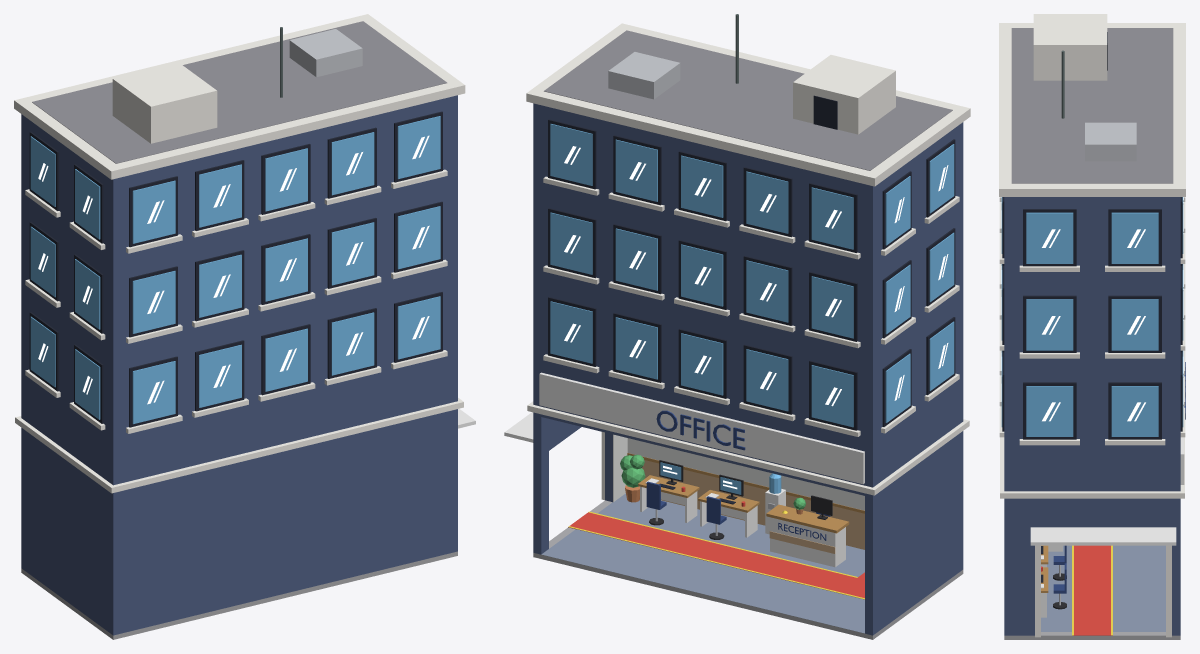
File: Building_Goal_Office.fbx
3 views of the same model, side by side, from view 1: azimuth 30°, elevation 25°; view 2: azimuth 150°, elevation 25°; view 3: azimuth 270°, elevation 25° (orthographic). The views are drawn at different scales.
Parts seen in each view (by area): view 1: Office_Shell, Office_Details; view 2: Office_Details, Office_Shell, Office_Interior; view 3: Office_Details, Office_Shell, Office_Interior.
Part boxes in pixels (box(x1,y1,x2,y2)): Office_Shell: box(21, 95, 457, 639); Office_Details: box(14, 14, 475, 493); Office_Details: box(504, 14, 970, 500); Office_Shell: box(533, 103, 963, 639); Office_Interior: box(541, 434, 864, 633); Office_Details: box(999, 14, 1185, 637); Office_Shell: box(1004, 197, 1180, 639); Office_Interior: box(1041, 545, 1165, 635).
Bounding box in the file's own units: 28.75 × 39.03 × 12.7.
